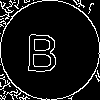B: (25, 25, 60, 72)
